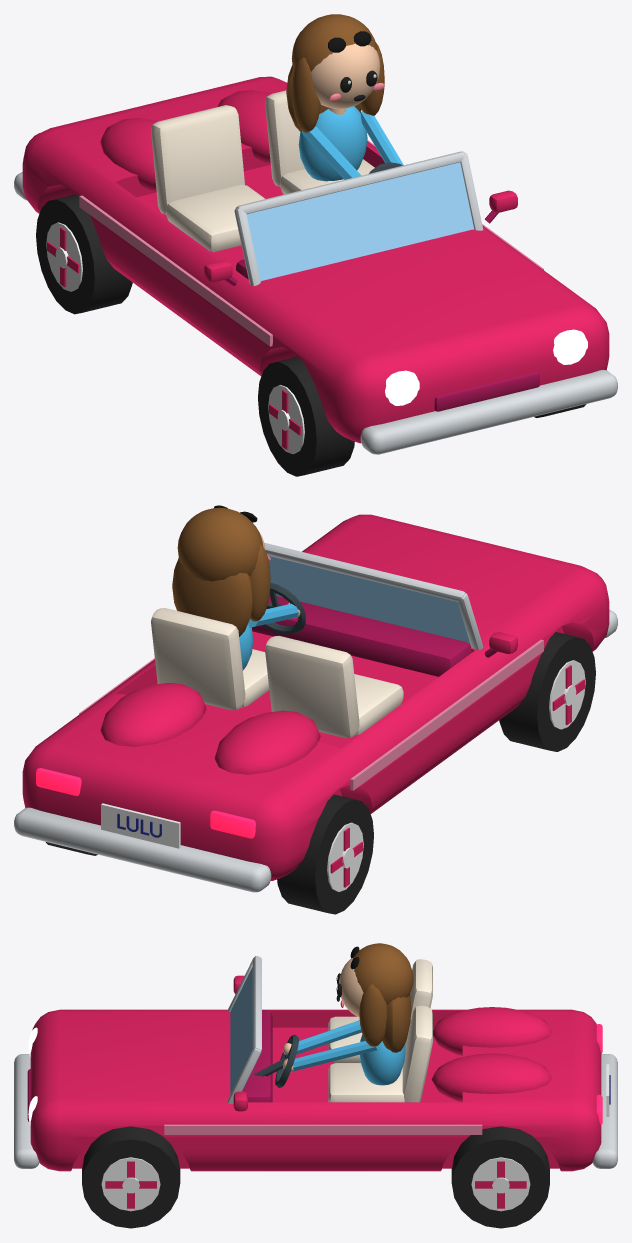
File: lulu_car.glb
The picture shows the model from 3 angles, top to bottom: view 1: azimuth 30°, elevation 25°; view 2: azimuth 150°, elevation 25°; view 3: azimuth 270°, elevation 25°; orthographic projection. The views are drawn at different scales.
Visible parts, largest first — view 1: LuluCar_body, Wheel_FR, Wheel_RR; view 2: LuluCar_body, Wheel_RR, Wheel_FR, SteeringWheel; view 3: LuluCar_body, Wheel_FL, Wheel_RL, SteeringWheel.
Part boxes in pixels (left/top/right/bottom): LuluCar_body: left=14, top=14, right=617, bottom=454; Wheel_FR: left=258, top=356, right=354, bottom=476; Wheel_RR: left=36, top=194, right=132, bottom=314; LuluCar_body: left=14, top=505, right=617, bottom=892; Wheel_RR: left=277, top=794, right=373, bottom=914; Wheel_FR: left=499, top=632, right=595, bottom=751; SteeringWheel: left=263, top=582, right=305, bottom=634; LuluCar_body: left=14, top=943, right=617, bottom=1171; Wheel_FL: left=82, top=1126, right=180, bottom=1228; Wheel_RL: left=451, top=1126, right=549, bottom=1228; SteeringWheel: left=275, top=1034, right=298, bottom=1087.
Bounding box in the file's own units: 2.06 × 1.89 × 4.18.
